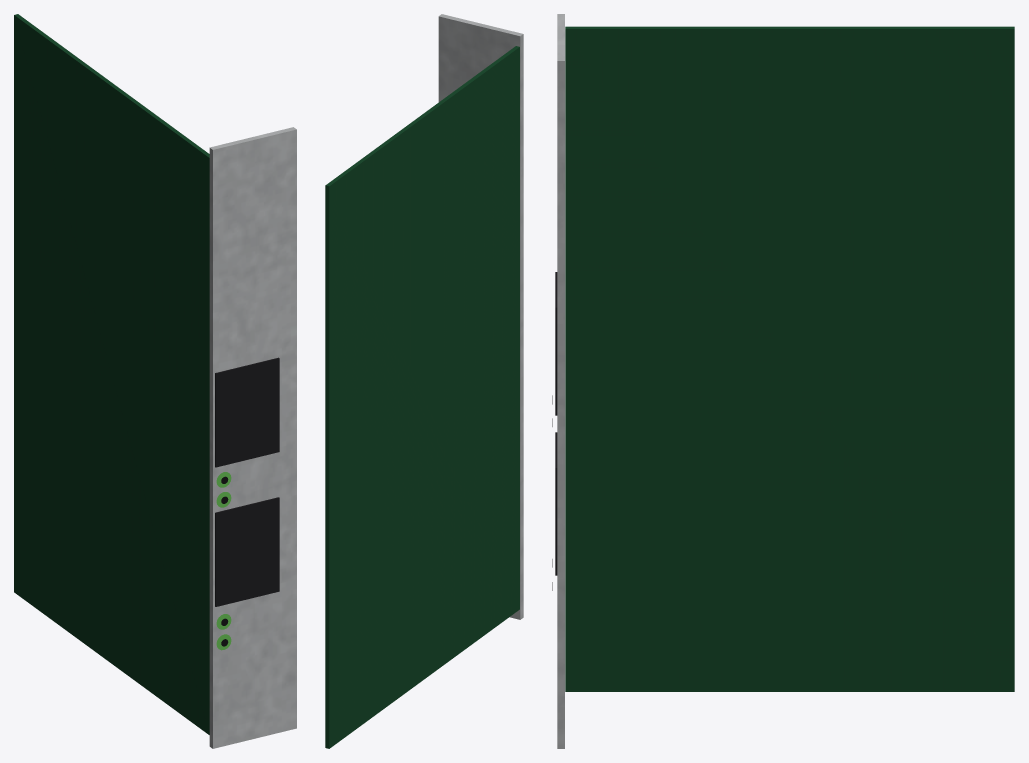
The model's file is E810-XXVDA2-FH.far.glb.
The picture shows the model from 3 angles, left to right: view 1: azimuth 30°, elevation 25°; view 2: azimuth 150°, elevation 25°; view 3: azimuth 270°, elevation 25°; orthographic projection. The views are drawn at different scales.
Parts seen in each view (by area): view 1: Card_far; view 2: Card_far; view 3: Card_far.
Part boxes in pixels (box(x1,y1,x2,y2)): Card_far: box(14, 14, 296, 748); Card_far: box(325, 14, 523, 748); Card_far: box(555, 14, 1014, 748).
Size of the model in its own units: 0.0146 by 0.0996 by 0.0606.
Materials: 3 (2 with a texture image).
